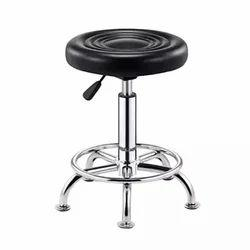stool: (55, 27, 200, 228)
